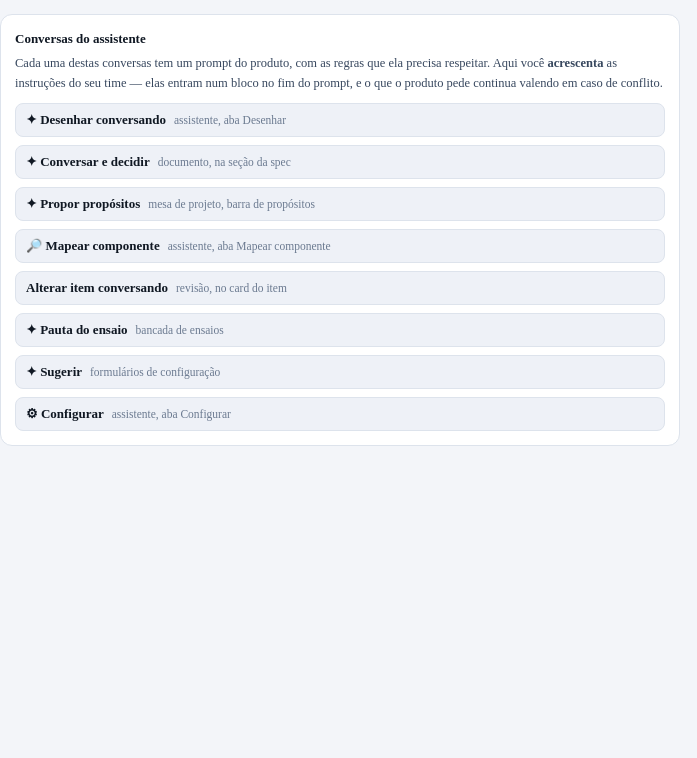
Test: as conversas do assistente na tela (SPEC-117) › fatia F — o ✦ Sugerir existe por conversa, com o contexto do que ela faz
The width and height of the screenshot is (697, 758).
Click the button "✦ Conversar e decidir documento, na seção da spec": click(88, 162) [26,154,654,170]
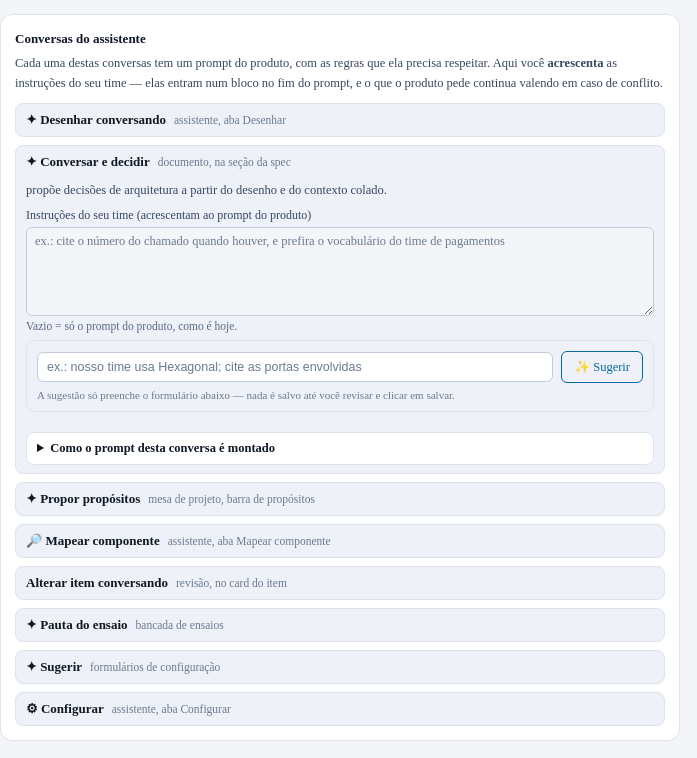
Now the element with test id "sugerir-ia-preambulo-de-conversa" is shown, box [26,340,654,412]
